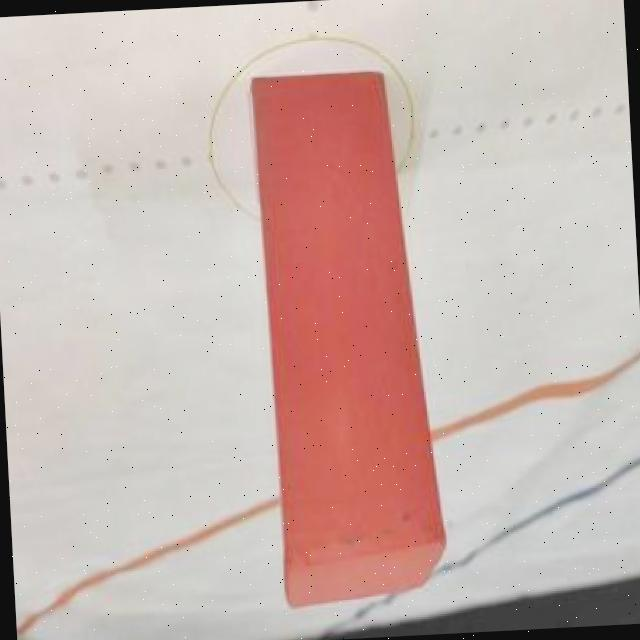redbox: (248, 68, 451, 613)
